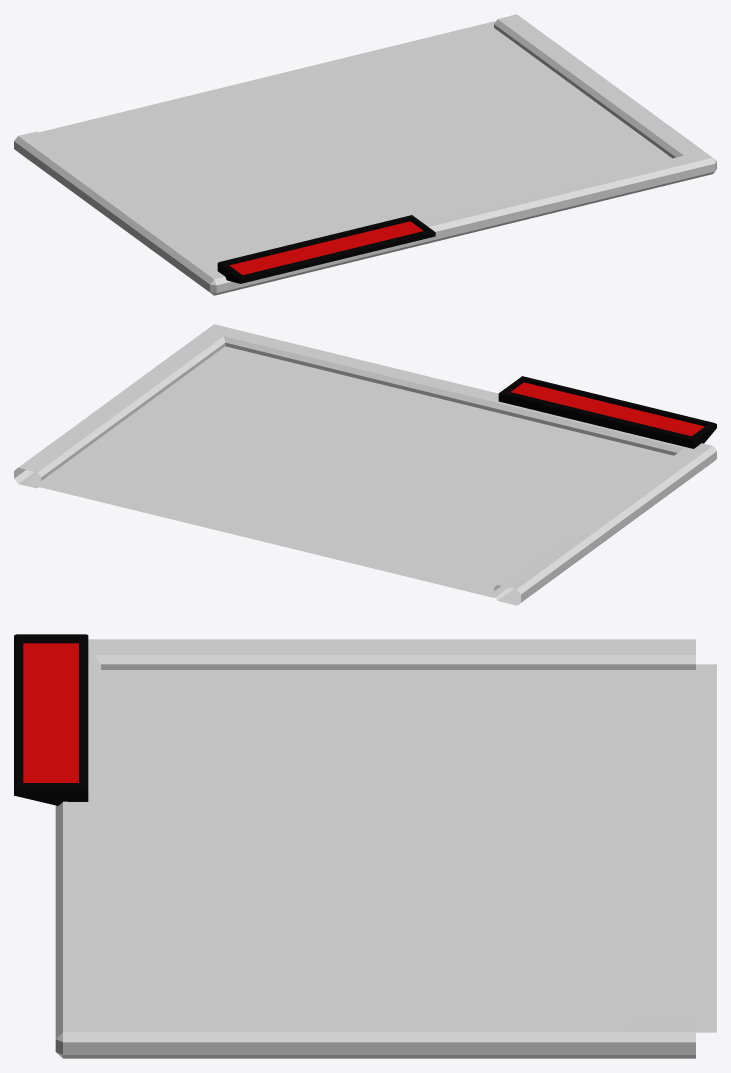
Rendered from HelpScreen.fbx.
3 views of the same model, one above another, from view 1: azimuth 30°, elevation 25°; view 2: azimuth 150°, elevation 25°; view 3: azimuth 270°, elevation 25° (orthographic). The views are drawn at different scales.
Parts seen in each view (by area): view 1: HelpScreenScreen, HelpScreenFrame, HelpScreenWord; view 2: HelpScreenScreen, HelpScreenFrame, HelpScreenWord; view 3: HelpScreenScreen, HelpScreenFrame, HelpScreenWord.
Part boxes in pixels (x1,y1,x2,y2): HelpScreenScreen: (39,21,671,262); HelpScreenFrame: (14,14,716,295); HelpScreenWord: (217,215,435,283); HelpScreenScreen: (27,346,673,597); HelpScreenFrame: (14,324,716,605); HelpScreenWord: (498,376,716,448); HelpScreenScreen: (101,664,716,1032); HelpScreenFrame: (55,639,695,1058); HelpScreenWord: (14,634,88,805).
Bounding box in the file's own units: 183 × 8.82 × 136.
